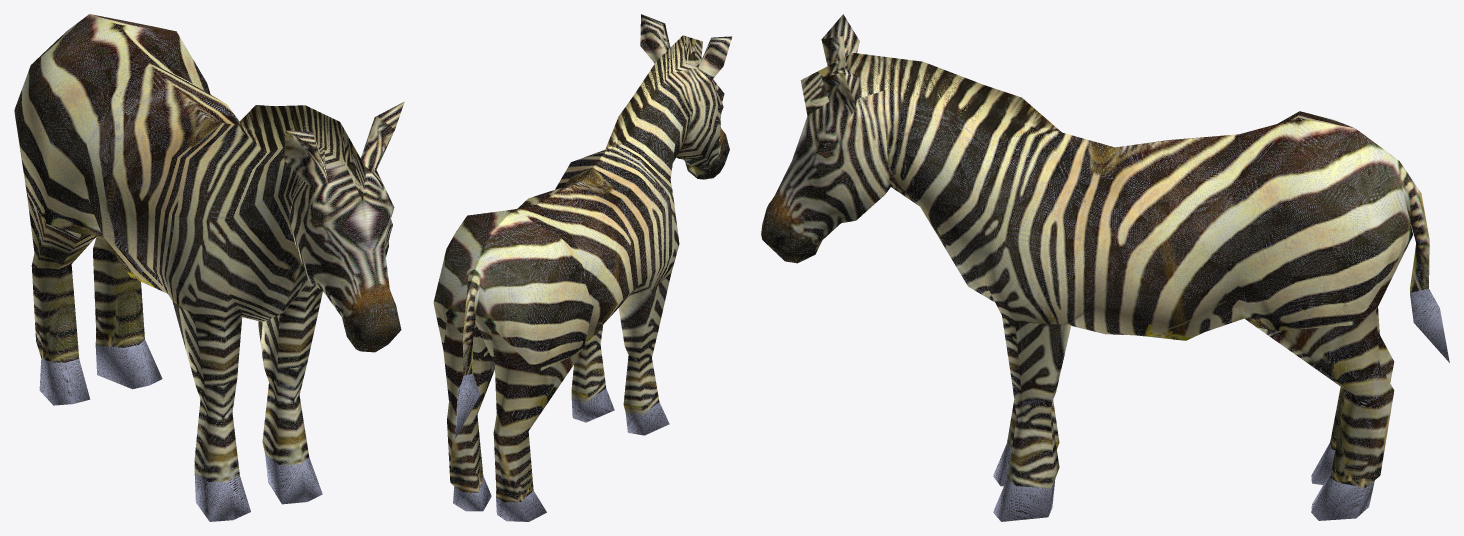
File: Common+Zebra+(adult)+FOTO.fbx
3 views of the same model, side by side, from view 1: azimuth 30°, elevation 25°; view 2: azimuth 150°, elevation 25°; view 3: azimuth 270°, elevation 25° (orthographic). The views are drawn at different scales.
Parts seen in each view (by area): view 1: ZebraFOTO2, ZebraFOTO1; view 2: ZebraFOTO2, ZebraFOTO1; view 3: ZebraFOTO1, ZebraFOTO2.
Part boxes in pixels (box(x1,y1,x2,y2)): ZebraFOTO2: box(14, 14, 385, 521); ZebraFOTO1: box(91, 14, 404, 504); ZebraFOTO2: box(455, 35, 732, 521); ZebraFOTO1: box(433, 14, 697, 511); ZebraFOTO1: box(761, 53, 1449, 521); ZebraFOTO2: box(761, 14, 1416, 486).
Size of the model in its own units: 0.5992 by 1.48 by 2.04.
